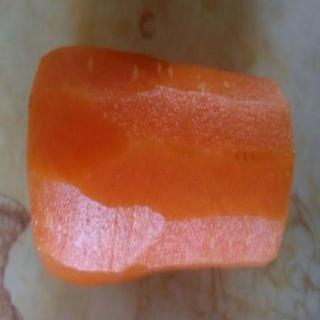carrot: (25, 37, 298, 293)
